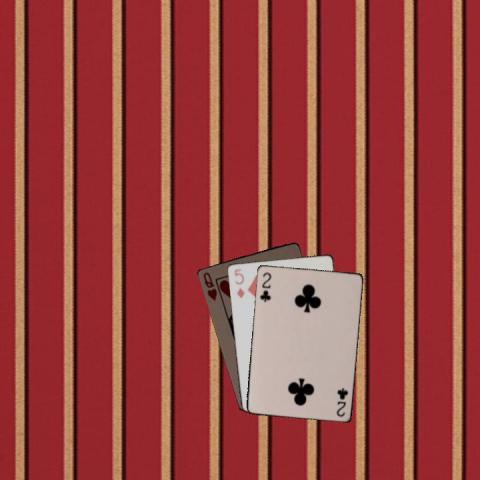2c: (333, 385, 350, 418), (257, 270, 272, 304)
5d: (231, 266, 246, 300)
Qh: (200, 269, 218, 302)
